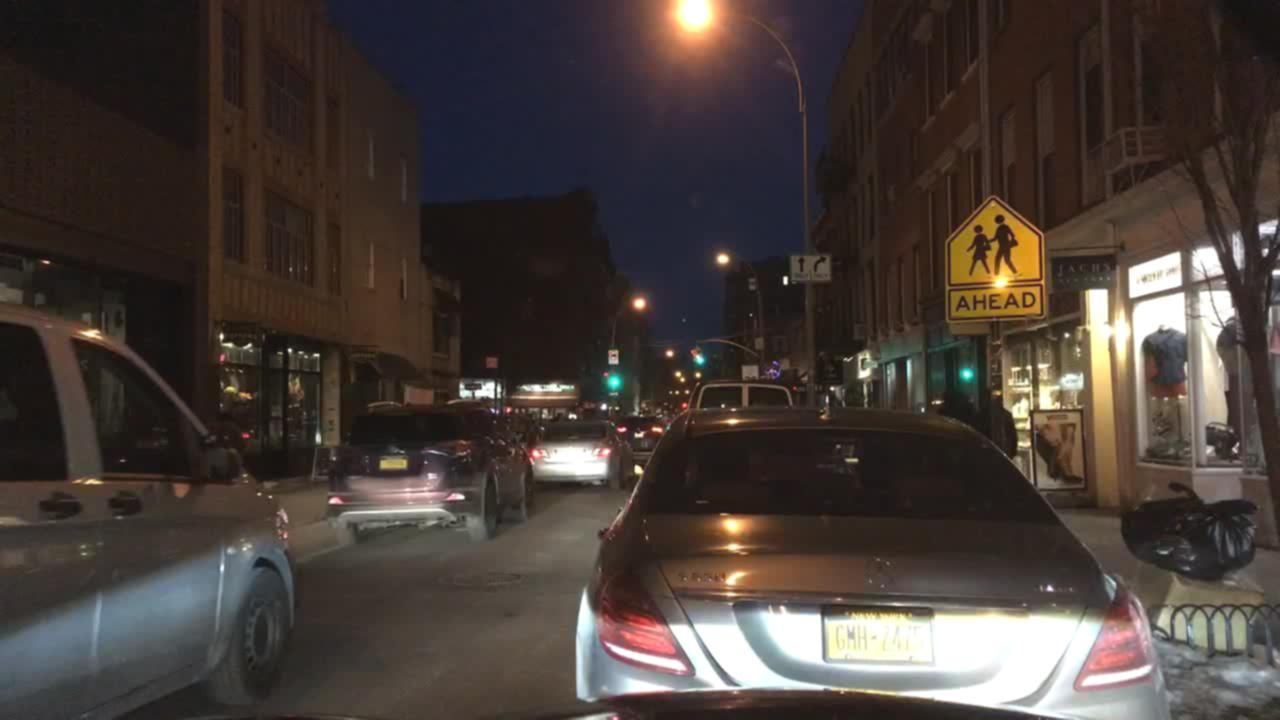Mercedes: (864, 548, 907, 602)
